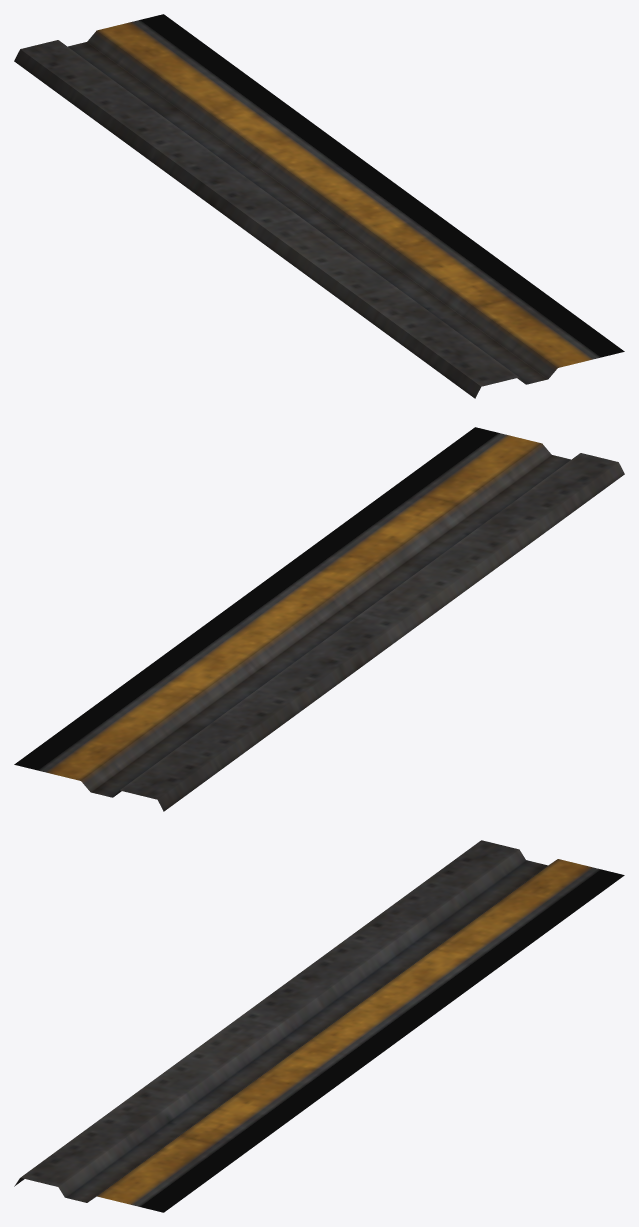
File: lab_floor_welder_short.dae
3 renders of one model, top to bottom at view 1: azimuth 30°, elevation 25°; view 2: azimuth 150°, elevation 25°; view 3: azimuth 330°, elevation 25°, orthographic.
Parts seen in each view (by area): view 1: floor_welder_short; view 2: floor_welder_short; view 3: floor_welder_short.
Part boxes in pixels (x1,y1,x2,y2): floor_welder_short: [14, 14, 624, 398]; floor_welder_short: [14, 427, 624, 811]; floor_welder_short: [14, 840, 624, 1212].
Bounding box in the file's own units: 0.375 × 0.0254 × 2.
